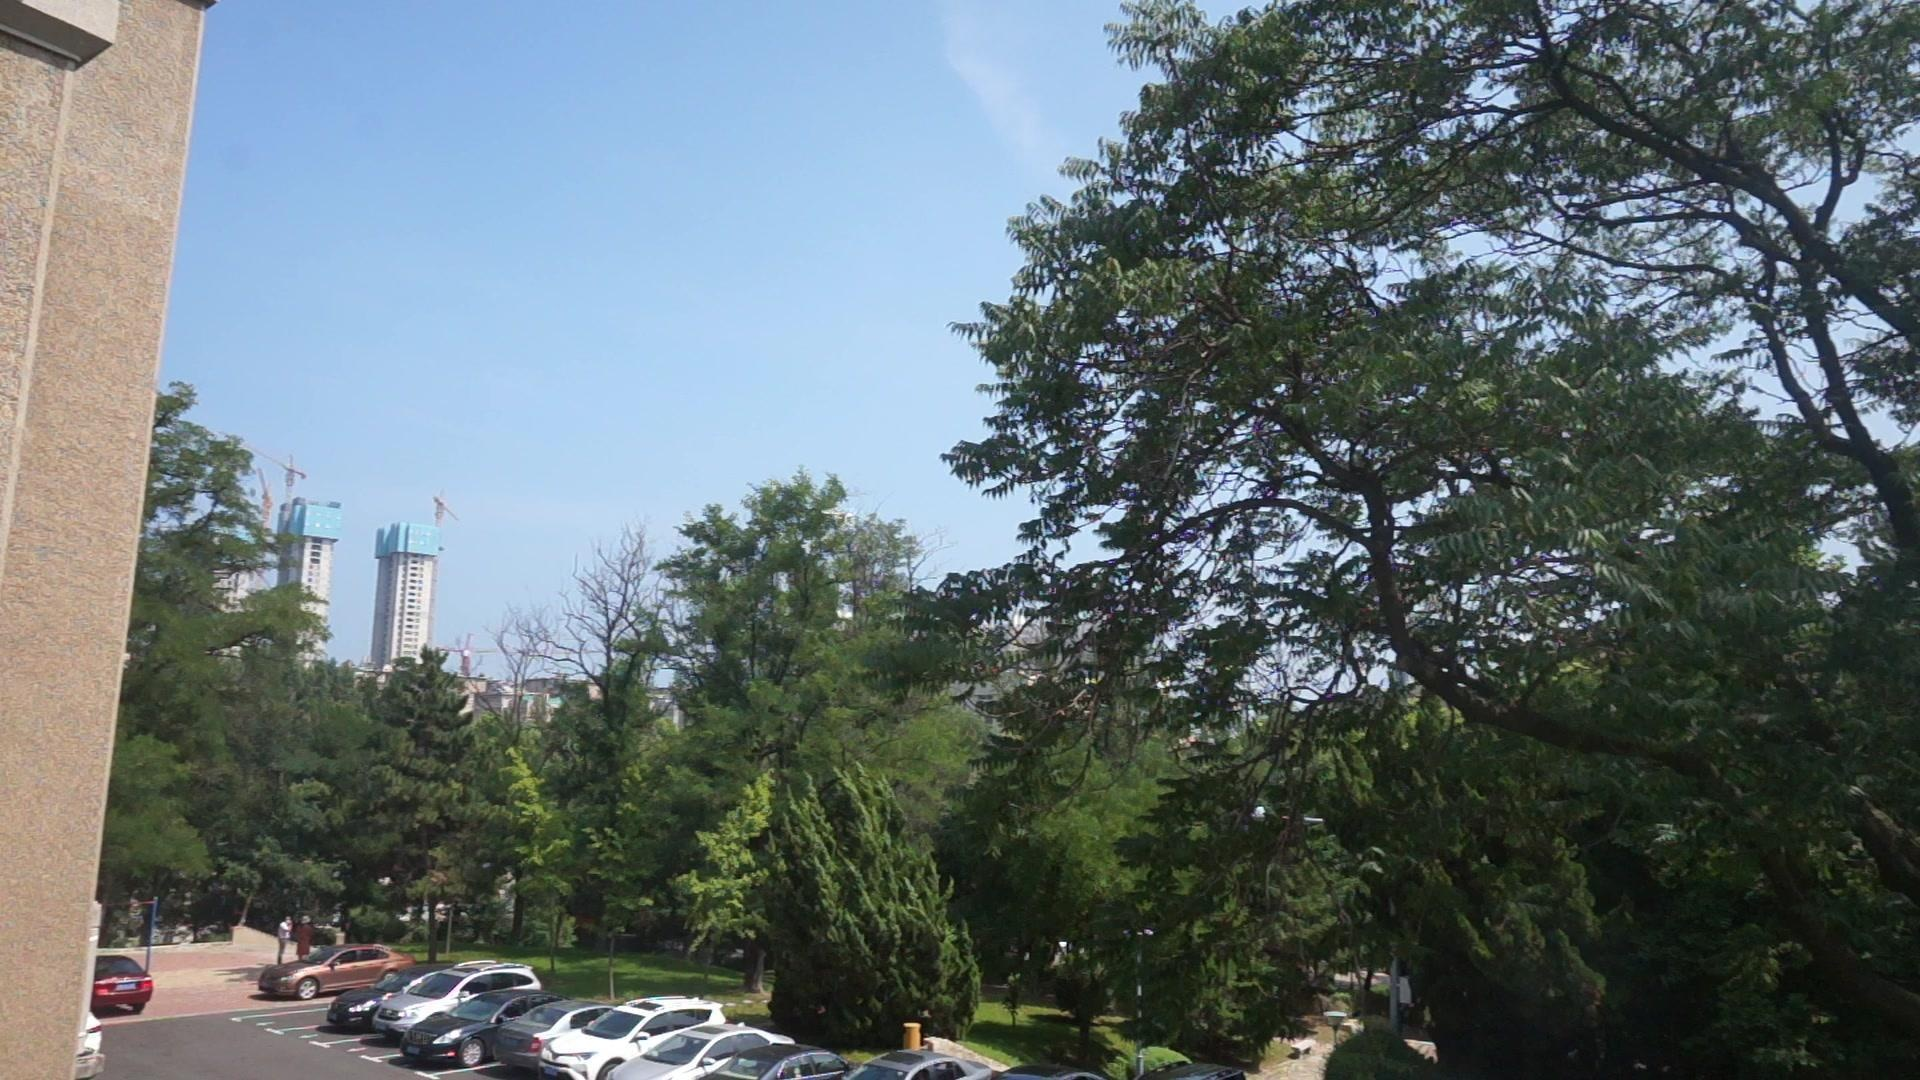UAV: (822, 510, 858, 524)
